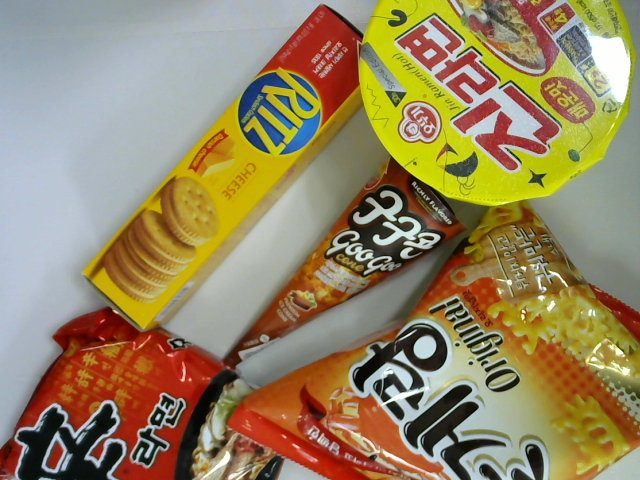Crabrang: (224, 199, 640, 480)
GooGoo_Cone_CVS: (219, 157, 468, 375)
Jinlamyeon_Hot_Taste_Large_Cup: (355, 1, 636, 209)
Ritz_Sand_Cracker: (82, 3, 368, 334)
Sinramen: (1, 307, 287, 480)
